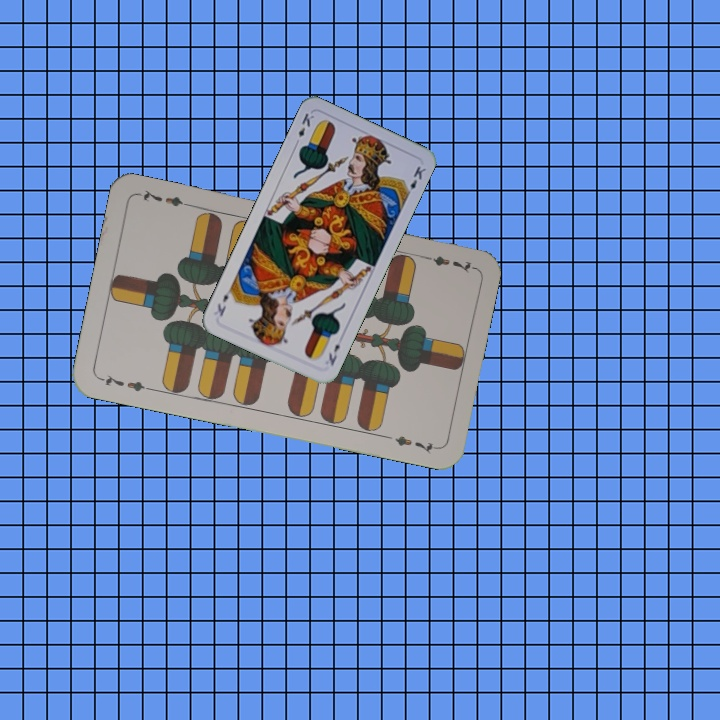E7: (96, 370, 154, 394), (417, 252, 476, 275)
EK: (291, 109, 317, 148), (324, 340, 343, 368)
